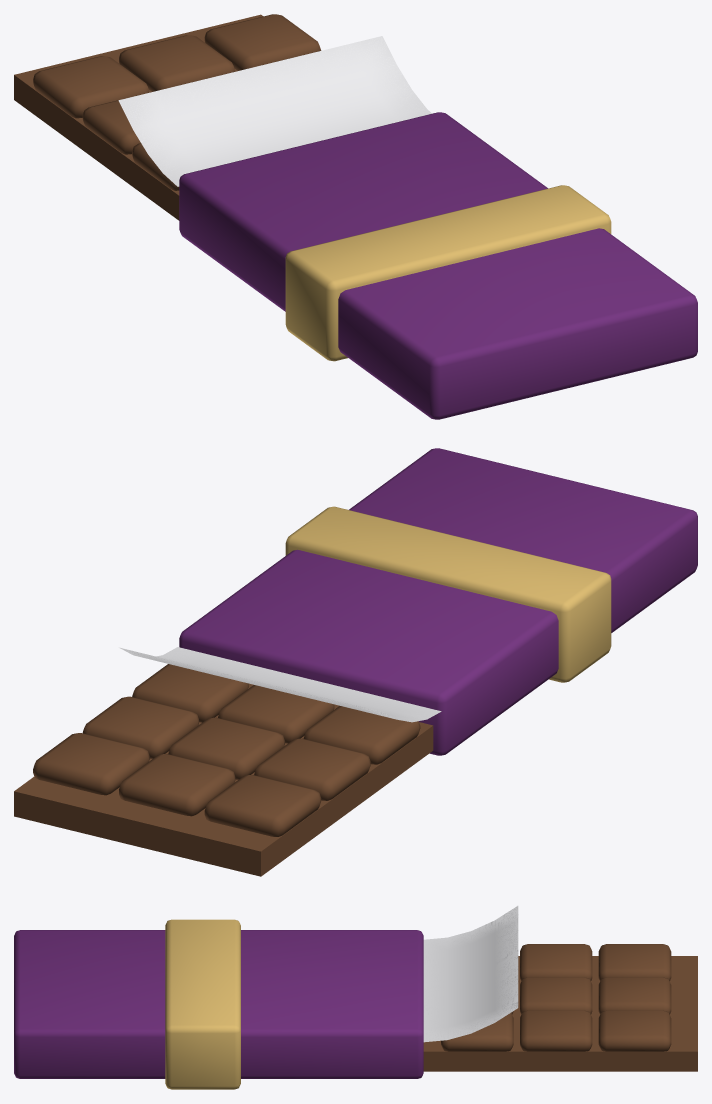
The model's file is food_choc.glb.
3 views of the same model, one above another, from view 1: azimuth 30°, elevation 25°; view 2: azimuth 150°, elevation 25°; view 3: azimuth 270°, elevation 25° (orthographic). The views are drawn at different scales.
Visible parts, largest first — view 1: Sleeve_LOD0, Foil_LOD0, Band_LOD0, Slab_LOD0, Piece_LOD0.002, Piece_LOD0.008, Piece_LOD0.005, Piece_LOD0.001, Piece_LOD0; view 2: Sleeve_LOD0, Band_LOD0, Slab_LOD0, Foil_LOD0, Piece_LOD0.002, Piece_LOD0.008, Piece_LOD0.005, Piece_LOD0.001, Piece_LOD0.004, Piece_LOD0.007, Piece_LOD0, Piece_LOD0.006 (+1 smaller); view 3: Sleeve_LOD0, Band_LOD0, Foil_LOD0, Slab_LOD0, Piece_LOD0.008, Piece_LOD0.007, Piece_LOD0.005, Piece_LOD0.002, Piece_LOD0.004, Piece_LOD0.001, Piece_LOD0.006.
Boxes of the visible parts, x1,y1,x2,y2 form: Sleeve_LOD0: [179, 112, 697, 419]; Foil_LOD0: [118, 36, 431, 186]; Band_LOD0: [285, 185, 611, 361]; Slab_LOD0: [14, 14, 263, 220]; Piece_LOD0.002: [33, 56, 149, 118]; Piece_LOD0.008: [204, 14, 320, 70]; Piece_LOD0.005: [119, 35, 235, 91]; Piece_LOD0.001: [82, 92, 150, 154]; Piece_LOD0: [132, 143, 179, 190]; Sleeve_LOD0: [179, 448, 697, 755]; Band_LOD0: [285, 506, 611, 682]; Slab_LOD0: [14, 683, 433, 876]; Foil_LOD0: [119, 647, 441, 722]; Piece_LOD0.002: [204, 775, 321, 836]; Piece_LOD0.008: [33, 733, 149, 795]; Piece_LOD0.005: [119, 754, 235, 816]; Piece_LOD0.001: [254, 738, 370, 800]; Piece_LOD0.004: [168, 717, 284, 779]; Piece_LOD0.007: [82, 696, 198, 758]; Piece_LOD0: [303, 706, 420, 764]; Piece_LOD0.006: [132, 664, 248, 722]; Sleeve_LOD0: [14, 930, 423, 1078]; Band_LOD0: [165, 919, 240, 1089]; Foil_LOD0: [423, 906, 518, 1042]; Slab_LOD0: [423, 956, 697, 1071]; Piece_LOD0.008: [598, 1010, 671, 1051]; Piece_LOD0.007: [520, 1010, 592, 1051]; Piece_LOD0.005: [598, 977, 671, 1014]; Piece_LOD0.002: [598, 944, 671, 980]; Piece_LOD0.004: [520, 977, 592, 1014]; Piece_LOD0.001: [520, 944, 592, 980]; Piece_LOD0.006: [441, 1013, 513, 1051].
Size of the model in its own units: 0.083 by 0.028 by 0.217.
